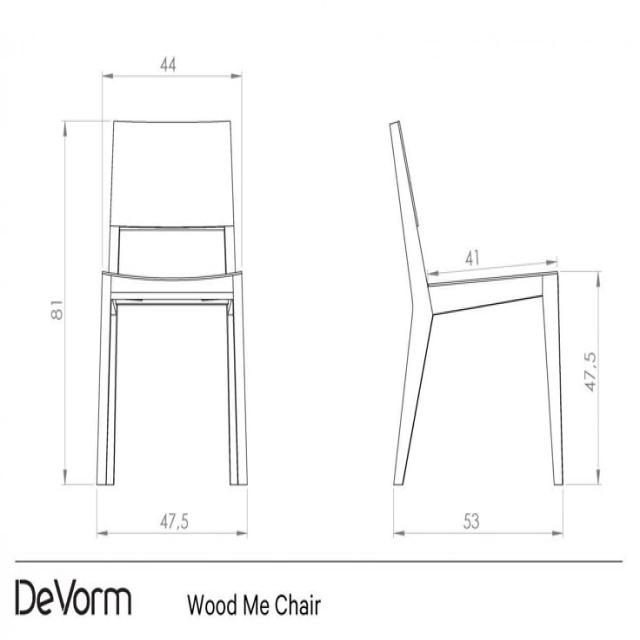Backrest: (102, 110, 243, 283), (382, 108, 438, 315)
Leg_Structure: (386, 281, 570, 497), (90, 281, 253, 493)
Seat: (419, 264, 568, 329), (95, 263, 254, 311)
